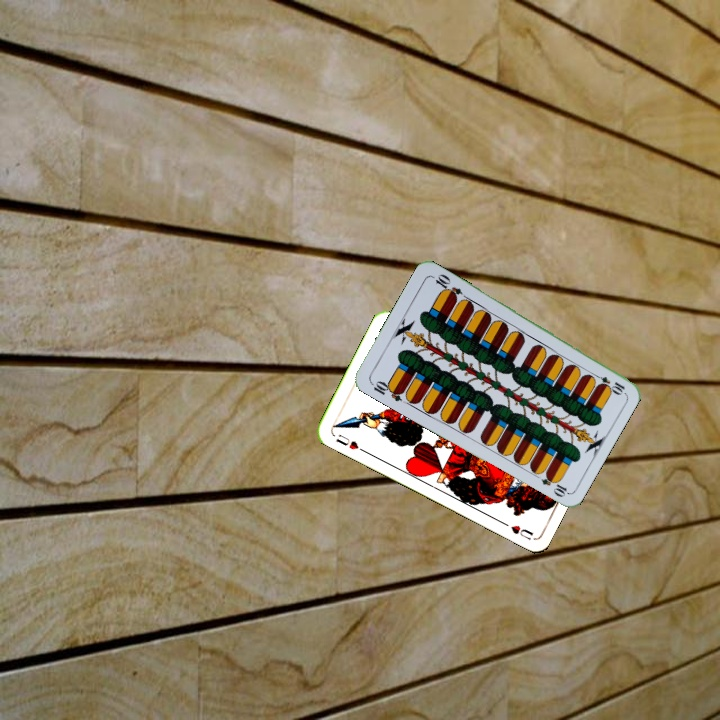E10: (367, 376, 406, 404), (589, 370, 628, 396)
HU: (332, 430, 361, 452)
